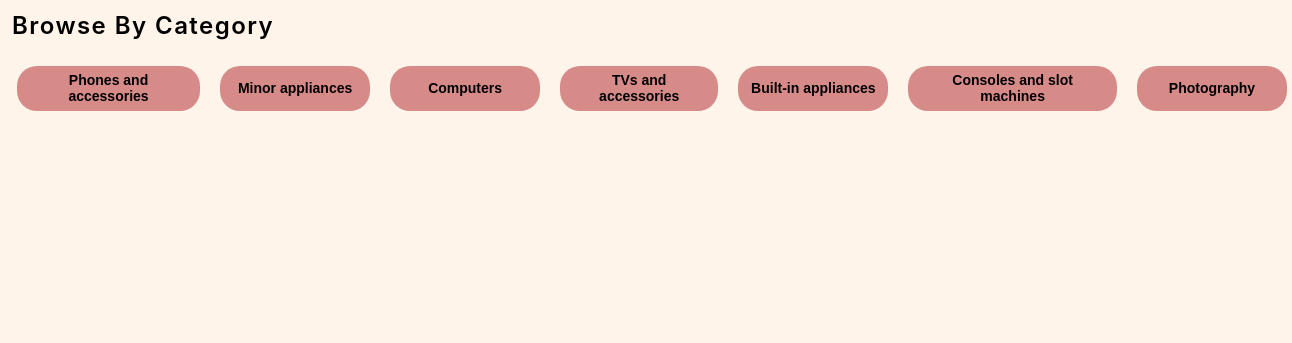
it: CategorySection › expands only one category at a time
What coordinates should you click on to do the following:
click the button "Phones and accessories"
I would click on:
 (109, 88)
Its box is [17, 66, 200, 111].
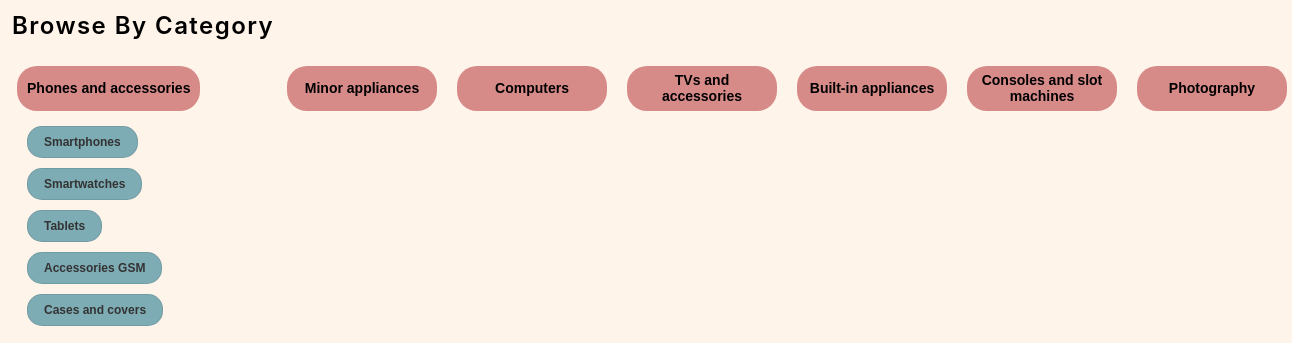
What coordinates should you click on to do the following:
click the button "Computers"
I would click on:
 (532, 88)
Its box is [457, 66, 607, 111].
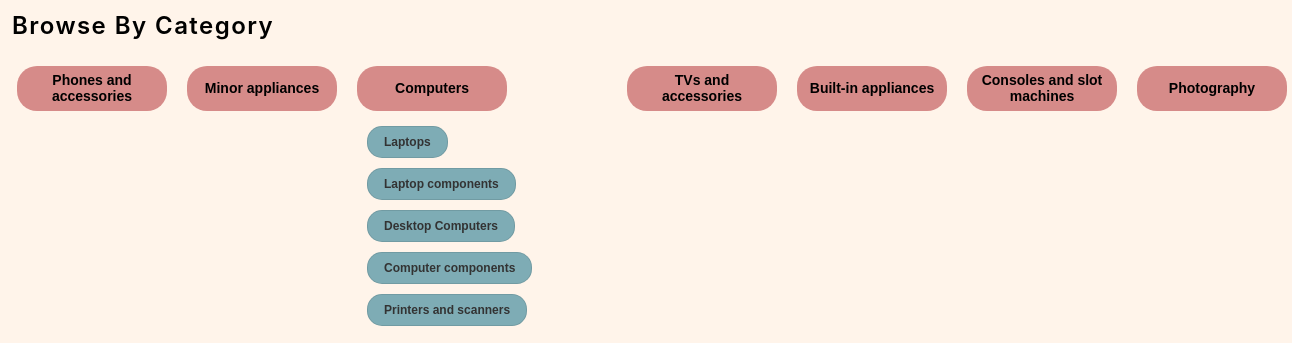
Now the text "Smartphones" is gone
Now the text "Laptops" is shown, box [384, 135, 431, 149]
